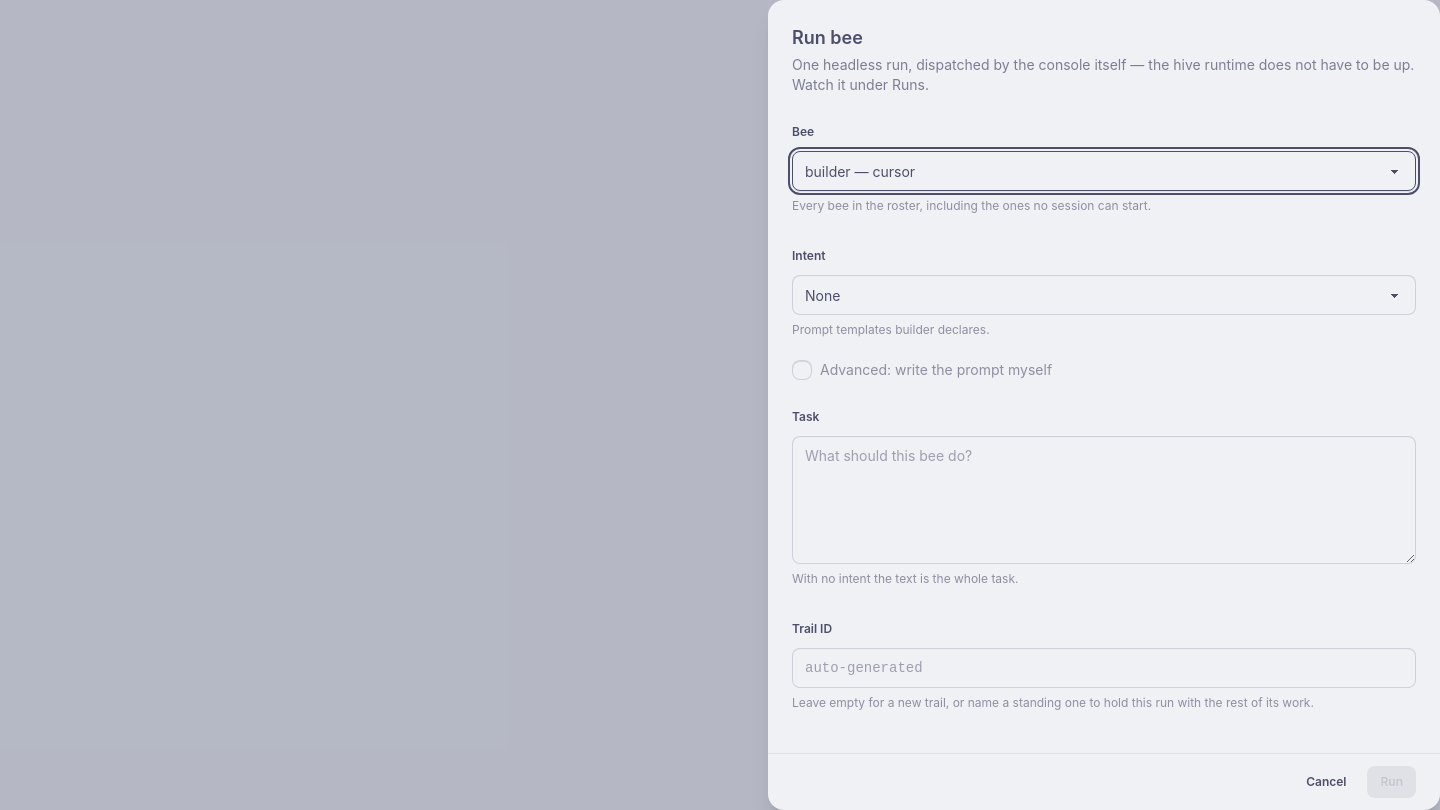
Test: BeeRunDrawer › reports the server’s refusal in the form instead of closing it
The width and height of the screenshot is (1440, 810).
Type "go" into the text box labelled "Task" at (1104, 500), box [792, 436, 1416, 564]
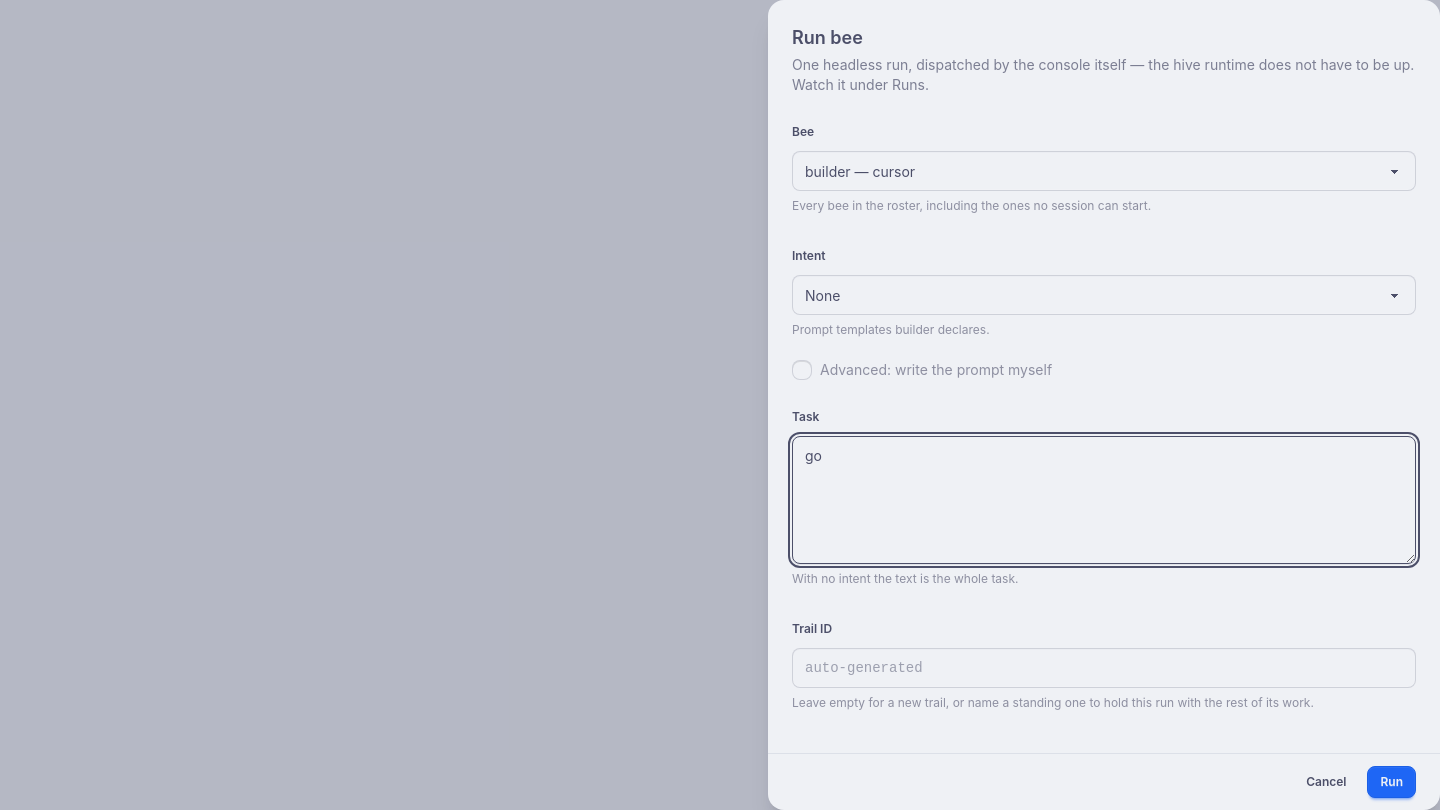
Click the button "Run" at (1392, 782), box [1368, 766, 1416, 798]
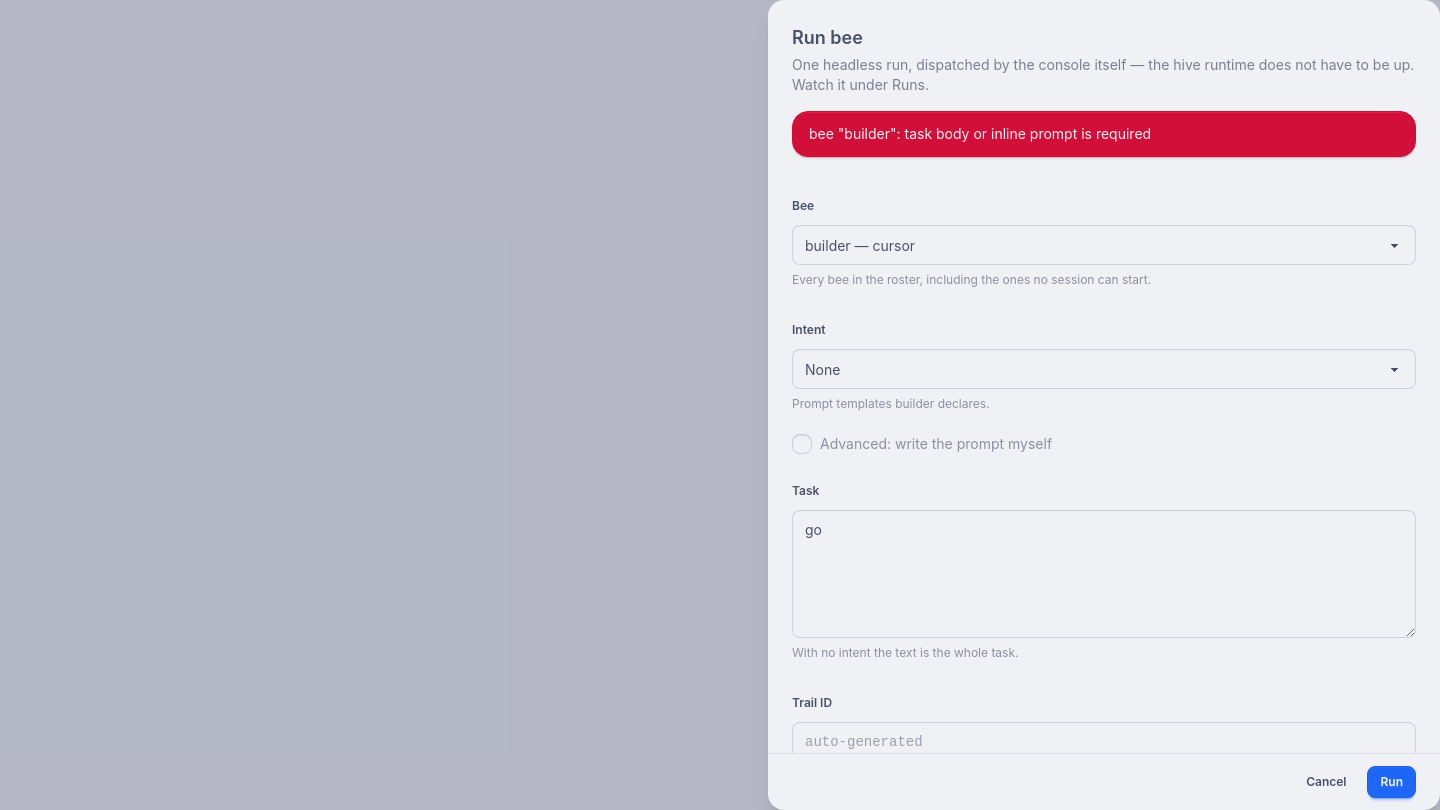
Now the message shows "task body or inline prompt is required", box [809, 125, 1151, 142]
